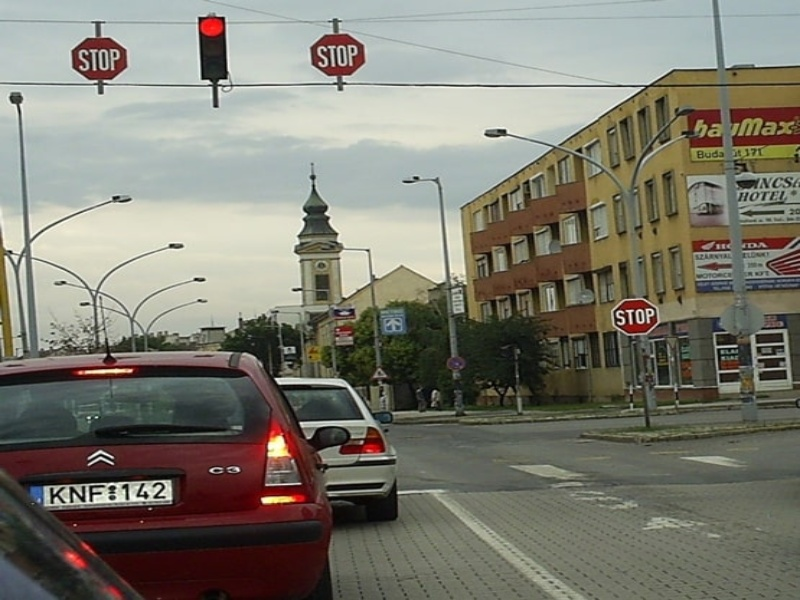stop sign: (67, 36, 131, 82), (306, 32, 369, 78), (607, 297, 664, 338)
